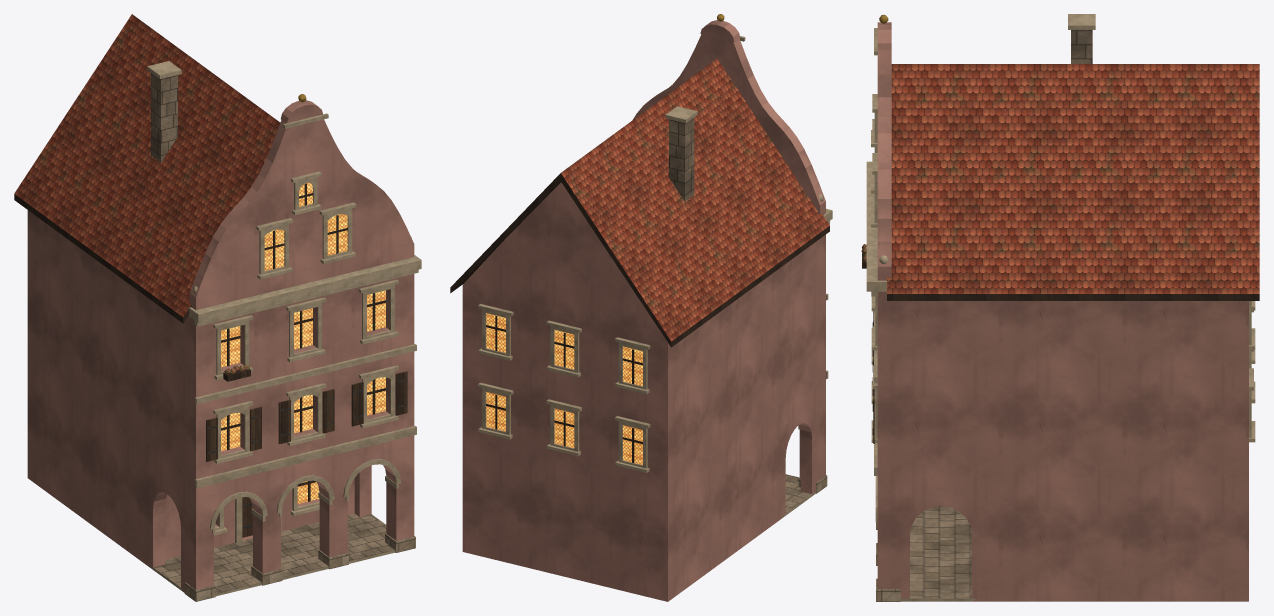
Rendered from house_burgher_f.gltf.
3 views of the same model, side by side, from view 1: azimuth 30°, elevation 25°; view 2: azimuth 150°, elevation 25°; view 3: azimuth 270°, elevation 25° (orthographic). The views are drawn at different scales.
Visible parts, largest first — view 1: house_burgher_f_mesh, INT_window_house_burgher_f_0, INT_window_house_burgher_f_2, INT_window_house_burgher_f_1, INT_window_house_burgher_f_2_shutter_R, INT_window_house_burgher_f_2_shutter_L, INT_window_house_burgher_f_1_shutter_L, INT_window_house_burgher_f_1_shutter_R; view 2: house_burgher_f_mesh; view 3: house_burgher_f_mesh.
Boxes of the visible parts, box(x1,y1,x2,y2) form: house_burgher_f_mesh: box(14, 14, 421, 601); INT_window_house_burgher_f_0: box(221, 412, 240, 451); INT_window_house_burgher_f_2: box(367, 377, 386, 415); INT_window_house_burgher_f_1: box(294, 395, 313, 433); INT_window_house_burgher_f_2_shutter_R: box(395, 371, 407, 415); INT_window_house_burgher_f_2_shutter_L: box(351, 382, 363, 426); INT_window_house_burgher_f_1_shutter_L: box(278, 400, 290, 444); INT_window_house_burgher_f_1_shutter_R: box(322, 389, 334, 433); house_burgher_f_mesh: box(450, 14, 832, 601); house_burgher_f_mesh: box(861, 14, 1259, 601).
Size of what is drawn, in the model's own units: 9.7 by 18.82 by 12.88.
Materials: 15 (15 with a texture image).
